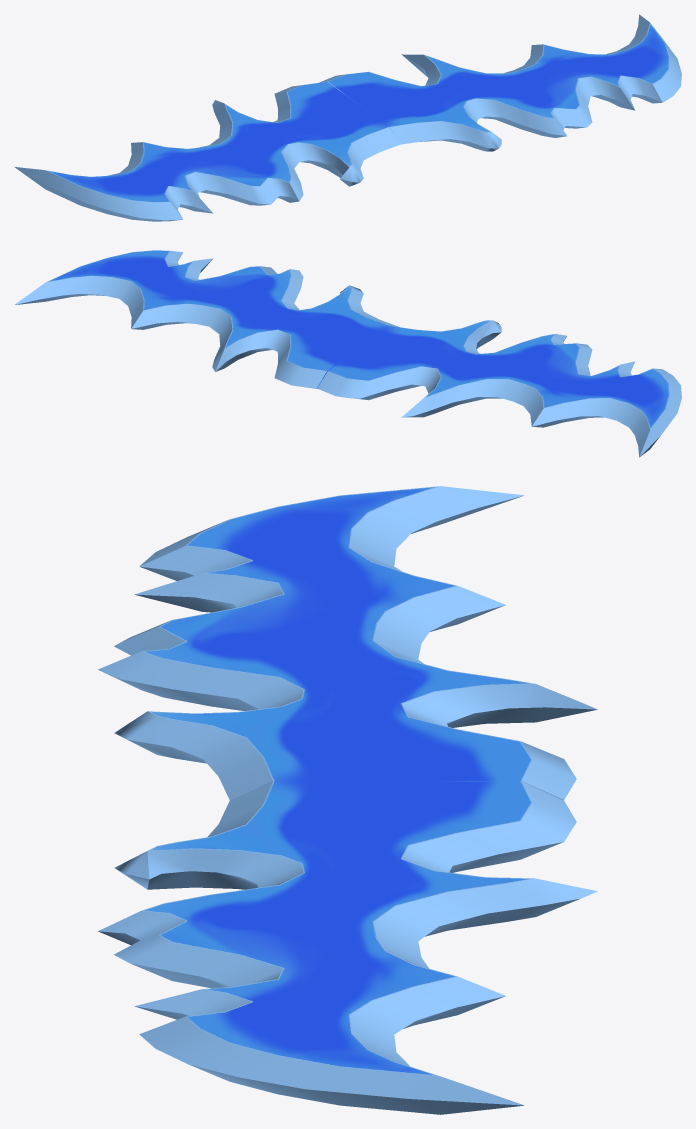
Rendered from Lateral_Bullet.fbx.
3 renders of one model, top to bottom at view 1: azimuth 30°, elevation 25°; view 2: azimuth 150°, elevation 25°; view 3: azimuth 270°, elevation 25°, orthographic. The views are drawn at different scales.
Parts seen in each view (by area): view 1: SM_DS_Dragon_Weapon; view 2: SM_DS_Dragon_Weapon; view 3: SM_DS_Dragon_Weapon.
Boxes of the visible parts, box(x1,y1,x2,y2) form: SM_DS_Dragon_Weapon: box(14, 14, 681, 221); SM_DS_Dragon_Weapon: box(14, 250, 681, 457); SM_DS_Dragon_Weapon: box(98, 486, 597, 1114).
Bounding box in the file's own units: 1.96 × 0.0581 × 0.6804.
